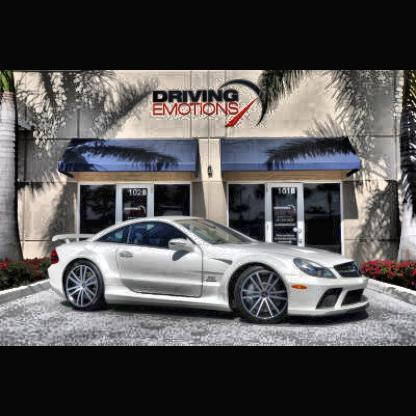Mercedes-Benz SL-Class Coupe 2009: (48, 216, 372, 327)
